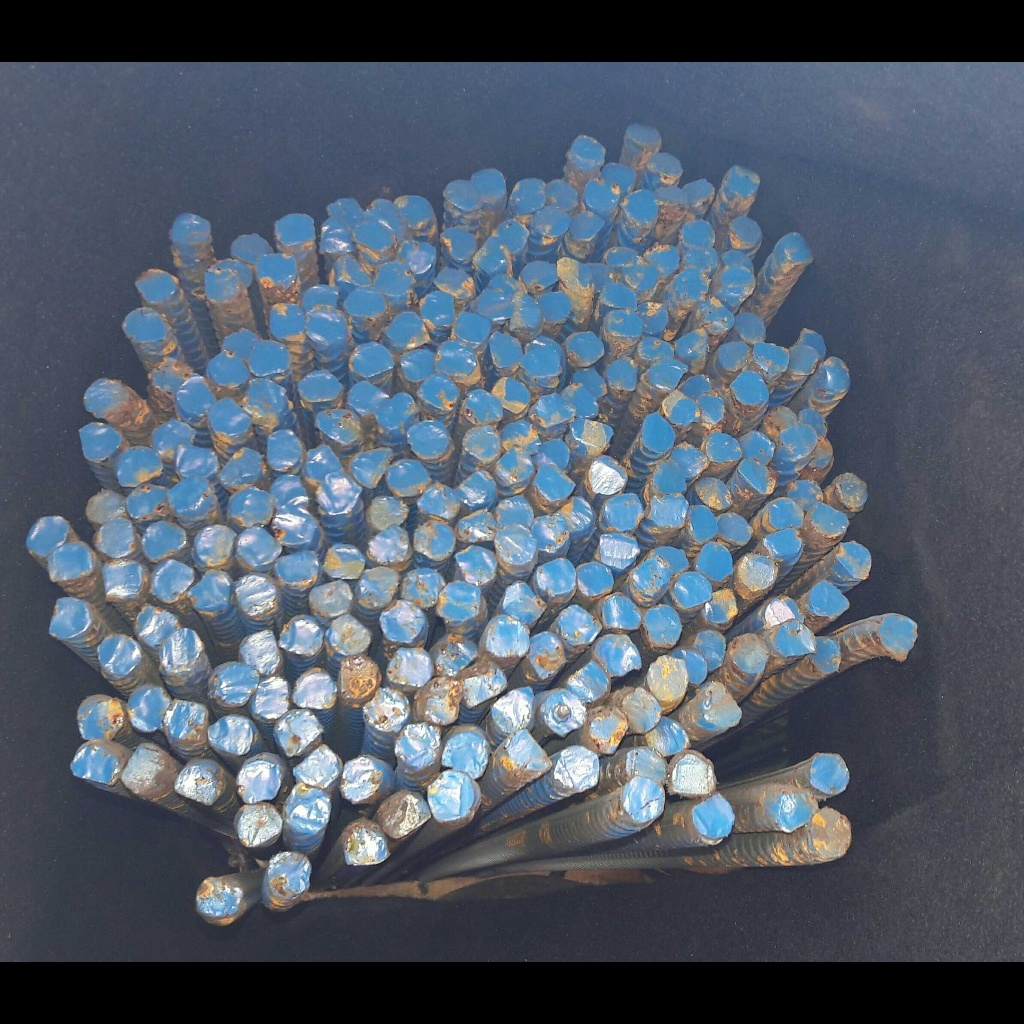dipstick: (429, 771, 480, 823), (805, 807, 852, 860), (282, 784, 331, 834), (380, 789, 430, 838), (669, 749, 717, 798), (121, 743, 168, 793), (174, 756, 221, 805), (70, 741, 120, 785), (276, 709, 323, 755), (554, 745, 600, 792), (540, 691, 586, 738), (458, 662, 508, 705), (77, 695, 123, 741), (594, 634, 642, 678), (191, 524, 237, 569), (337, 654, 380, 702), (566, 660, 611, 705), (293, 745, 339, 789), (506, 729, 553, 772), (428, 633, 476, 675), (115, 446, 164, 487), (210, 663, 259, 704), (697, 682, 741, 727), (235, 802, 281, 845), (364, 689, 410, 732), (396, 723, 442, 766), (491, 686, 534, 732), (127, 685, 168, 733), (152, 420, 196, 464), (355, 567, 400, 610), (380, 600, 425, 643), (387, 646, 434, 687), (440, 732, 487, 773), (137, 604, 180, 648), (190, 569, 234, 612), (163, 700, 208, 742), (623, 776, 665, 821), (340, 757, 381, 803), (620, 688, 661, 734), (877, 615, 918, 661), (587, 707, 627, 754), (227, 486, 275, 525), (292, 669, 337, 710), (493, 524, 538, 565), (82, 378, 128, 418), (196, 877, 242, 917), (422, 677, 462, 723), (237, 572, 279, 615), (149, 560, 193, 601), (159, 628, 203, 669), (209, 715, 253, 756), (239, 630, 280, 674), (367, 526, 413, 565), (342, 828, 390, 865), (269, 852, 310, 895), (693, 794, 734, 837), (503, 582, 543, 626), (235, 527, 280, 566), (141, 520, 187, 558), (49, 597, 90, 639), (99, 633, 141, 674), (281, 614, 323, 655), (777, 790, 818, 832), (250, 677, 290, 720), (647, 716, 690, 756), (558, 604, 601, 644), (272, 506, 316, 545), (648, 655, 687, 699), (436, 581, 481, 619), (528, 631, 566, 676), (167, 478, 214, 514), (414, 520, 455, 561), (738, 552, 779, 593), (245, 379, 285, 421), (26, 515, 69, 554), (237, 762, 280, 801), (306, 305, 349, 344), (486, 619, 529, 658), (79, 422, 123, 460), (315, 472, 359, 510), (102, 558, 142, 599), (328, 615, 369, 655), (407, 419, 450, 457), (148, 357, 192, 394), (48, 543, 92, 580), (387, 460, 431, 497), (455, 471, 499, 508), (122, 307, 167, 343), (178, 376, 219, 415), (456, 546, 497, 585), (572, 417, 613, 456), (810, 752, 849, 793), (602, 493, 644, 531), (773, 618, 815, 656), (387, 311, 430, 348), (218, 448, 262, 484), (596, 532, 640, 568), (315, 409, 361, 443), (210, 399, 251, 437), (536, 461, 574, 502), (625, 748, 667, 785), (348, 343, 395, 376), (207, 350, 250, 386), (310, 579, 353, 615), (435, 340, 478, 376), (401, 569, 440, 608), (730, 633, 769, 672), (352, 449, 392, 487), (462, 423, 502, 461), (419, 374, 459, 412), (266, 431, 303, 472), (644, 605, 681, 646), (462, 388, 503, 425), (324, 543, 366, 579), (417, 484, 459, 520), (175, 444, 218, 479), (126, 483, 169, 518), (249, 340, 292, 375), (496, 448, 535, 486), (588, 456, 627, 494), (95, 521, 135, 558), (834, 541, 871, 581), (671, 572, 712, 608), (810, 357, 851, 393), (537, 558, 576, 595), (634, 556, 671, 595), (737, 458, 776, 495), (473, 236, 509, 276), (807, 502, 849, 536), (86, 489, 129, 522), (453, 510, 497, 542), (565, 331, 603, 368), (376, 393, 415, 429), (521, 342, 560, 378), (810, 580, 850, 615), (135, 269, 178, 301), (532, 394, 575, 426), (272, 475, 310, 511), (562, 383, 600, 419), (348, 381, 389, 414), (276, 552, 319, 583), (298, 370, 341, 401), (558, 497, 594, 534), (477, 286, 514, 322), (492, 377, 530, 412), (691, 631, 725, 670), (500, 421, 539, 455), (698, 542, 732, 581), (697, 298, 735, 332), (650, 492, 688, 526), (695, 476, 733, 510), (369, 497, 408, 530), (353, 220, 394, 251), (434, 266, 475, 297), (420, 291, 455, 327), (604, 595, 640, 630), (738, 430, 773, 466), (763, 595, 805, 625), (674, 648, 708, 685), (663, 391, 700, 425), (780, 422, 817, 456), (376, 261, 414, 294), (575, 562, 613, 595), (648, 357, 686, 390), (808, 635, 841, 673), (257, 254, 296, 286), (642, 413, 674, 452), (344, 285, 387, 314), (400, 348, 436, 382), (568, 134, 604, 168), (754, 341, 790, 375), (731, 370, 767, 404), (717, 513, 753, 547), (723, 165, 760, 198), (444, 179, 482, 211), (270, 303, 305, 337), (395, 195, 430, 229), (652, 460, 687, 494), (274, 214, 315, 243), (511, 178, 547, 211), (584, 177, 620, 210), (398, 241, 435, 273), (718, 265, 756, 296), (836, 472, 867, 510), (231, 234, 270, 264), (519, 261, 558, 291), (170, 214, 210, 243), (623, 188, 657, 222), (672, 443, 706, 477), (558, 257, 593, 290), (623, 258, 658, 291), (705, 588, 737, 624), (688, 505, 720, 541), (490, 331, 521, 368), (532, 206, 570, 236), (441, 227, 475, 260), (571, 209, 605, 242), (605, 310, 645, 338), (779, 232, 814, 264), (675, 268, 710, 300), (673, 327, 708, 359), (204, 269, 240, 300), (497, 495, 533, 526), (768, 498, 804, 529), (787, 480, 823, 511), (705, 432, 742, 462), (695, 392, 726, 427), (766, 528, 802, 558), (602, 282, 639, 311), (307, 446, 340, 478), (538, 291, 571, 323), (765, 406, 798, 438), (472, 168, 506, 199), (548, 178, 578, 213), (453, 313, 491, 340), (606, 358, 637, 391), (656, 187, 689, 218), (729, 217, 762, 248), (638, 302, 669, 335), (644, 244, 680, 272), (653, 546, 689, 574), (496, 219, 528, 250), (603, 162, 634, 194), (638, 336, 676, 362), (736, 312, 766, 344), (797, 408, 827, 440), (680, 220, 714, 248), (625, 123, 660, 150), (539, 440, 570, 470), (718, 342, 751, 370), (648, 152, 682, 179), (788, 346, 819, 375), (322, 228, 355, 253), (327, 196, 360, 221), (685, 179, 714, 207), (800, 329, 826, 360), (303, 285, 338, 307), (722, 250, 753, 273), (605, 247, 638, 268)
